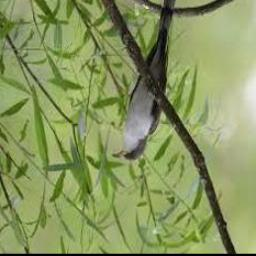Cuckoo: (113, 0, 178, 161)
